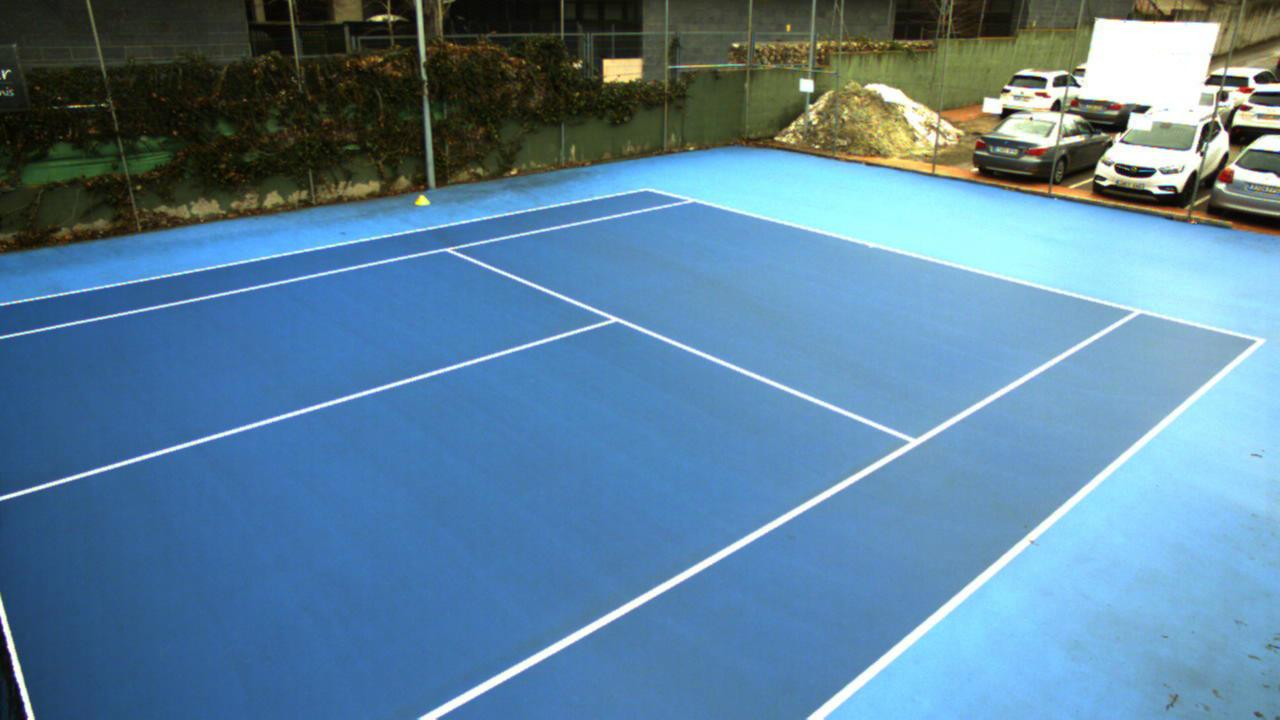cancha_tenis: (0, 197, 1141, 720)
point_f1: (676, 192, 703, 213)
point_f2: (1120, 297, 1150, 323)
point_fc1: (862, 239, 879, 256)
point_i1: (433, 235, 462, 260)
point_i2: (890, 425, 928, 459)
point_ic1: (592, 302, 630, 333)
